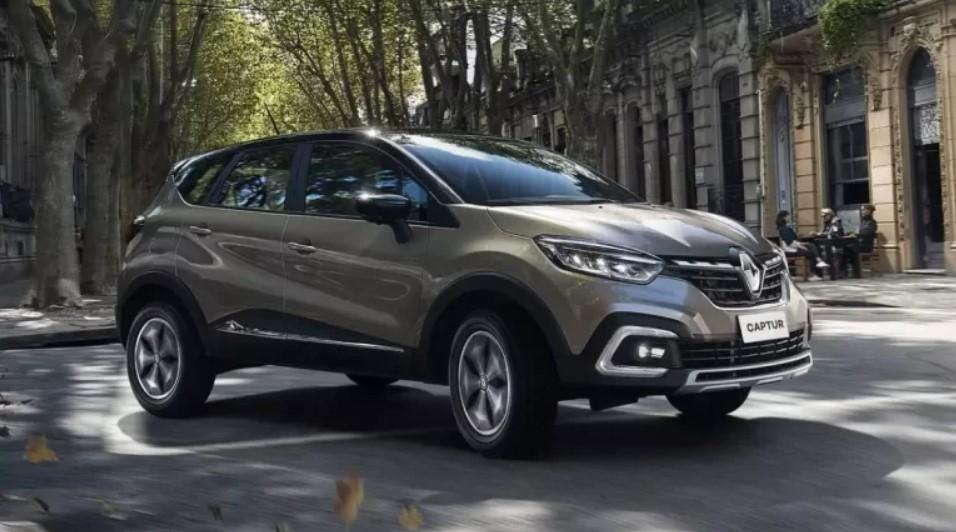Renault: (730, 242, 772, 300)
